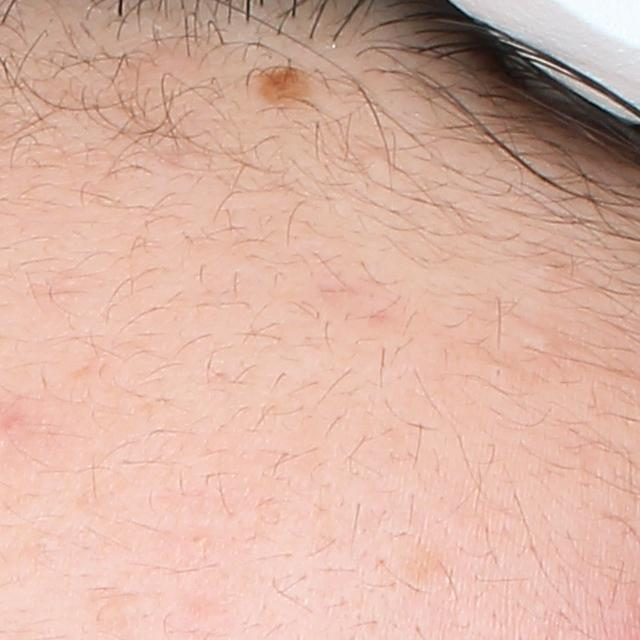nevus: (249, 64, 308, 110)
